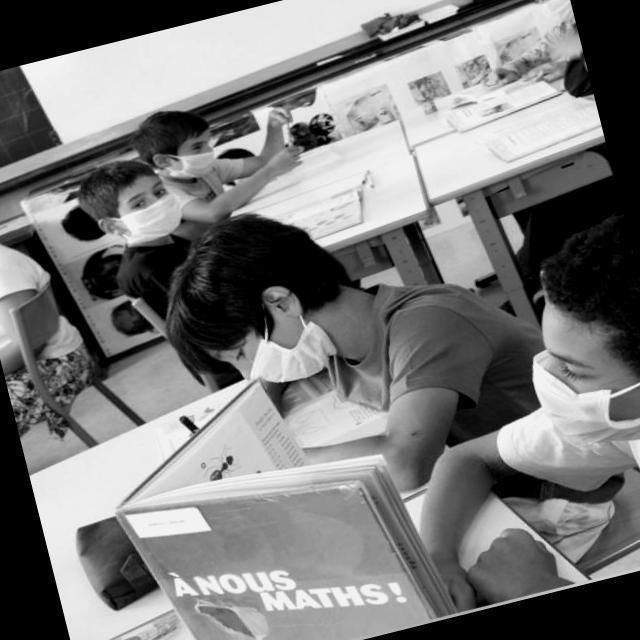mask: (533, 373, 613, 441), (263, 340, 325, 382), (128, 208, 190, 232)
no_gloves: (178, 243, 308, 332), (559, 236, 640, 306), (143, 104, 213, 148), (93, 168, 125, 210)
